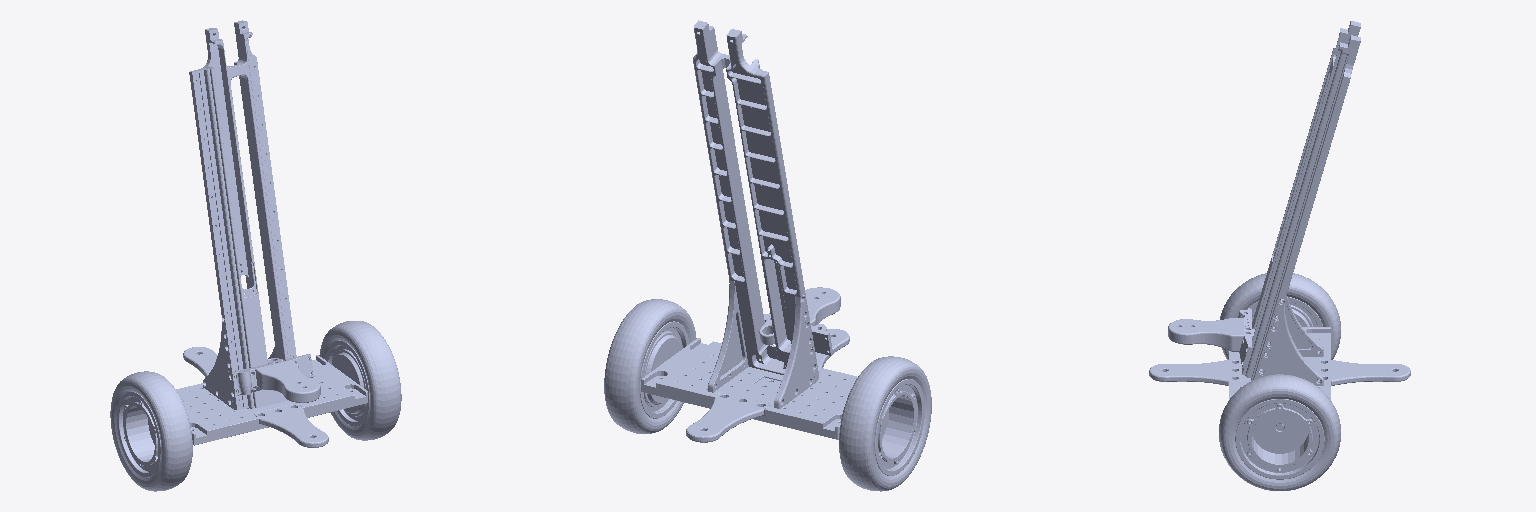
URDF robot description (remy_description):
<robot
  name="remy_description">
  <link
    name="base_link">
    <inertial>
      <origin
        xyz="0.00087655445154326 0.0133266943334383 0.112028231494976"
        rpy="0 0 0" />
      <mass
        value="3.7861195695851" />
      <inertia
        ixx="0.150559432564579"
        ixy="-0.000110335078785947"
        ixz="0.00175276185527145"
        iyy="0.104289190802925"
        iyz="-0.00679500712897134"
        izz="0.0484042366566965" />
    </inertial>
    <visual>
      <origin
        xyz="0 0 0"
        rpy="0 0 0" />
      <geometry>
        <mesh
          filename="../meshes/base_link.obj" />
      </geometry>
      <material
        name="">
        <color
          rgba="0.792156862745098 0.819607843137255 0.933333333333333 1" />
      </material>
    </visual>
    <collision>
      <origin
        xyz="0 0 0"
        rpy="0 0 0" />
      <geometry>
        <mesh
          filename="../meshes/base_link.obj" />
      </geometry>
    </collision>
  </link>
  <link
    name="right_wheel">
    <inertial>
      <origin
        xyz="1.12828713364064E-18 2.52135245130946E-06 -0.00159086162357974"
        rpy="0 0 0" />
      <mass
        value="2.11820986694096" />
      <inertia
        ixx="0.2"
        ixy="0.2"
        ixz="0.2"
        iyy="0.2"
        iyz="0.2"
        izz="0.2" />
    </inertial>
    <visual>
      <origin
        xyz="0 0 0"
        rpy="0 0 0" />
      <geometry>
        <mesh
          filename="../meshes/right_wheel.obj" />
      </geometry>
      <material
        name="">
        <color
          rgba="0.792156862745098 0.819607843137255 0.933333333333333 1" />
      </material>
    </visual>
    <collision>
      <origin
        xyz="0 0 0"
        rpy="0 0 0" />
      <geometry>
        <mesh
          filename="../meshes/right_wheel.obj" />
      </geometry>
    </collision>
  </link>
  <joint
    name="right_wheel"
    type="continuous">
    <origin
      xyz="-0.241935 0 0"
      rpy="1.5707963267949 -6.81692115950261E-17 -1.5707963267949" />
    <parent
      link="base_link" />
    <child
      link="right_wheel" />
    <axis
      xyz="0 0 -1" />
  </joint>
  <link
    name="left_wheel">
    <inertial>
      <origin
        xyz="-0.00159086162357977 2.52135245130518E-06 -5.90429117867095E-19"
        rpy="0 0 0" />
      <mass
        value="2.11820986694096" />
      <inertia
        ixx="0.2"
        ixy="0.2"
        ixz="0.2"
        iyy="0.2"
        iyz="0.2"
        izz="0.2" />
    </inertial>
    <visual>
      <origin
        xyz="0 0 0"
        rpy="0 0 0" />
      <geometry>
        <mesh
          filename="../meshes/left_wheel.obj" />
      </geometry>
      <material
        name="">
        <color
          rgba="0.792156862745098 0.819607843137255 0.933333333333333 1" />
      </material>
    </visual>
    <collision>
      <origin
        xyz="0 0 0"
        rpy="0 0 0" />
      <geometry>
        <mesh
          filename="../meshes/left_wheel.obj" />
      </geometry>
    </collision>
  </link>
  <joint
    name="left_wheel"
    type="continuous">
    <origin
      xyz="0.241935 0 0"
      rpy="1.5707963267949 0 0" />
    <parent
      link="base_link" />
    <child
      link="left_wheel" />
    <axis
      xyz="1 0 0" />
  </joint>
  <link
    name="lift">
    <inertial>
      <origin
        xyz="0.00751477186770951 0.244073400771487 0.050306859069805"
        rpy="0 0 0" />
      <mass
        value="1.10311860062385" />
      <inertia
        ixx="0.0491475524599438"
        ixy="0.00436777029574092"
        ixz="0.00185995768109951"
        iyy="0.0102526980754837"
        iyz="-0.0124608198341577"
        izz="0.0410472324394515" />
    </inertial>
    <visual>
      <origin
        xyz="0 0 0"
        rpy="0 0 0" />
      <geometry>
        <mesh
          filename="../meshes/lift.obj" />
      </geometry>
      <material
        name="">
        <color
          rgba="0.792156862745098 0.819607843137255 0.933333333333333 1" />
      </material>
    </visual>
    <collision>
      <origin
        xyz="0 0 0"
        rpy="0 0 0" />
      <geometry>
        <mesh
          filename="../meshes/lift.obj" />
      </geometry>
    </collision>
  </link>
  <joint
    name="lift"
    type="prismatic">
    <origin
      xyz="0.017399 -0.033223 0.11124"
      rpy="0.2618 1.0643E-16 -3.1416" />
    <parent
      link="base_link" />
    <child
      link="lift" />
    <axis
      xyz="0 0 1" />
    <limit
      lower="0"
      upper="0.6"
      effort="0"
      velocity="0" />
  </joint>

  <transmission name="r_wheel_joint">
    <type>transmission_interface/SimpleTransmission</type>
    <joint name="right_wheel">
    </joint>
    <actuator name="r_wheel_joint">
      <mechanicalReduction>1</mechanicalReduction>
    </actuator>
  </transmission>
  <transmission name="l_wheel_joint">
    <type>transmission_interface/SimpleTransmission</type>
    <joint name="left_wheel">
    </joint>
    <actuator name="l_wheel_joint">
      <mechanicalReduction>1</mechanicalReduction>
    </actuator>
  </transmission>
  <transmission name="lift_joint">
    <type>transmission_interface/SimpleTransmission</type>
    <joint name="lift">
    </joint>
    <actuator name="lift_joint">
      <mechanicalReduction>1</mechanicalReduction>
    </actuator>
  </transmission>

</robot>

--- Render facts (derived) ---
Views: 3 orthographic renders of the robot side by side, from view 1: azimuth 30°, elevation 25°; view 2: azimuth 150°, elevation 25°; view 3: azimuth 270°, elevation 25°.
Robot: remy_description — 4 links, 3 joints (2 continuous, 1 prismatic); root link base_link; default pose: all joints at 0.
Visible links, largest first — view 1: base_link, right_wheel, left_wheel, lift; view 2: base_link, right_wheel, left_wheel, lift; view 3: base_link, left_wheel, right_wheel, lift.
Link boxes in pixels (x1,y1,x2,y2): base_link: (176, 20, 367, 447); right_wheel: (110, 371, 192, 491); left_wheel: (319, 321, 401, 440); lift: (231, 354, 320, 402); base_link: (641, 20, 857, 442); right_wheel: (839, 356, 931, 491); left_wheel: (604, 299, 696, 433); lift: (759, 287, 840, 355); base_link: (1149, 21, 1410, 399); left_wheel: (1219, 374, 1340, 490); right_wheel: (1220, 273, 1340, 359); lift: (1168, 308, 1254, 367).
Size in the robot's own frame: 0.5503 by 0.5207 by 0.9026 metres.
4 mesh visuals loaded from 4 distinct referenced files (4 OBJ).
